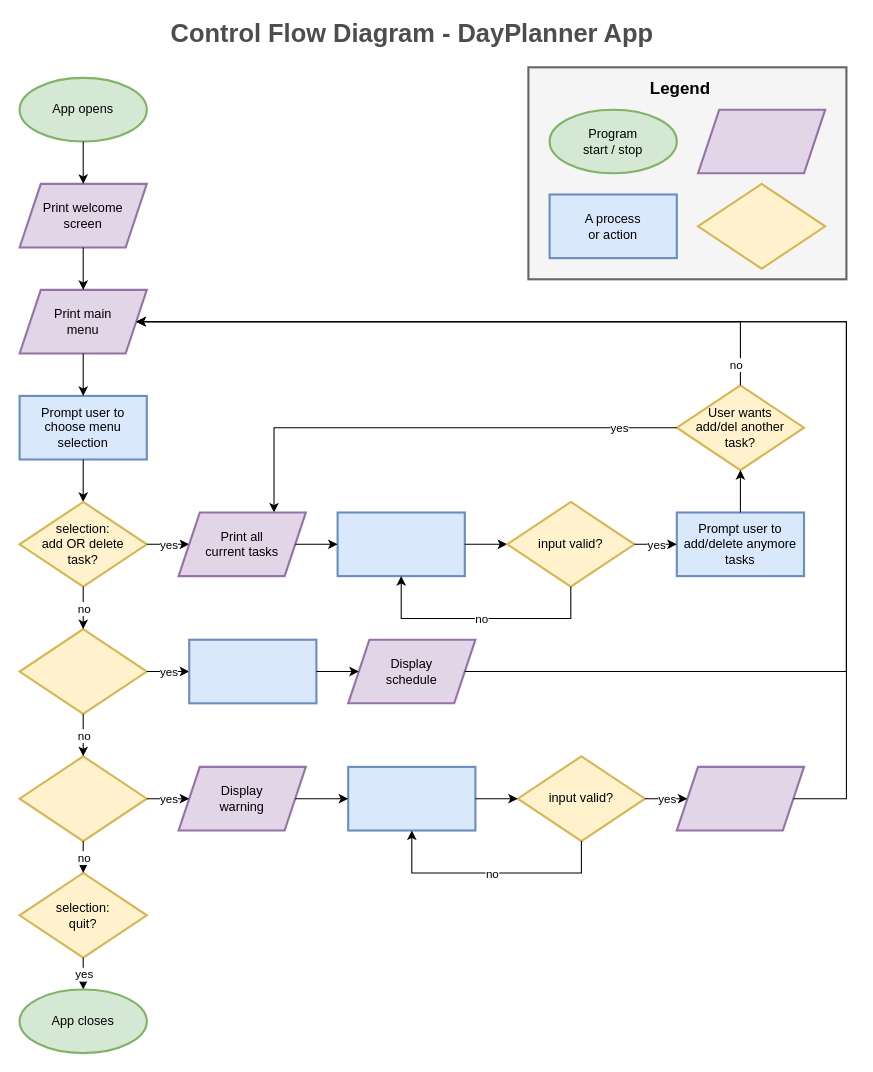
Image size: 873x1072. Some labels were removed from this diagram. Each missing label, with the box of its shape:
A decision to be made: (696, 182, 826, 269)
Confirmation message: (675, 765, 805, 831)
Input or Output: (696, 108, 826, 174)
Prompt user for input: (336, 511, 465, 577)
Prompt user to coonfirm: (347, 765, 476, 831)
selection: clear schedule?: (18, 755, 147, 842)
selection: show schedule?: (18, 628, 147, 714)
Sort schedule: (188, 638, 317, 704)
